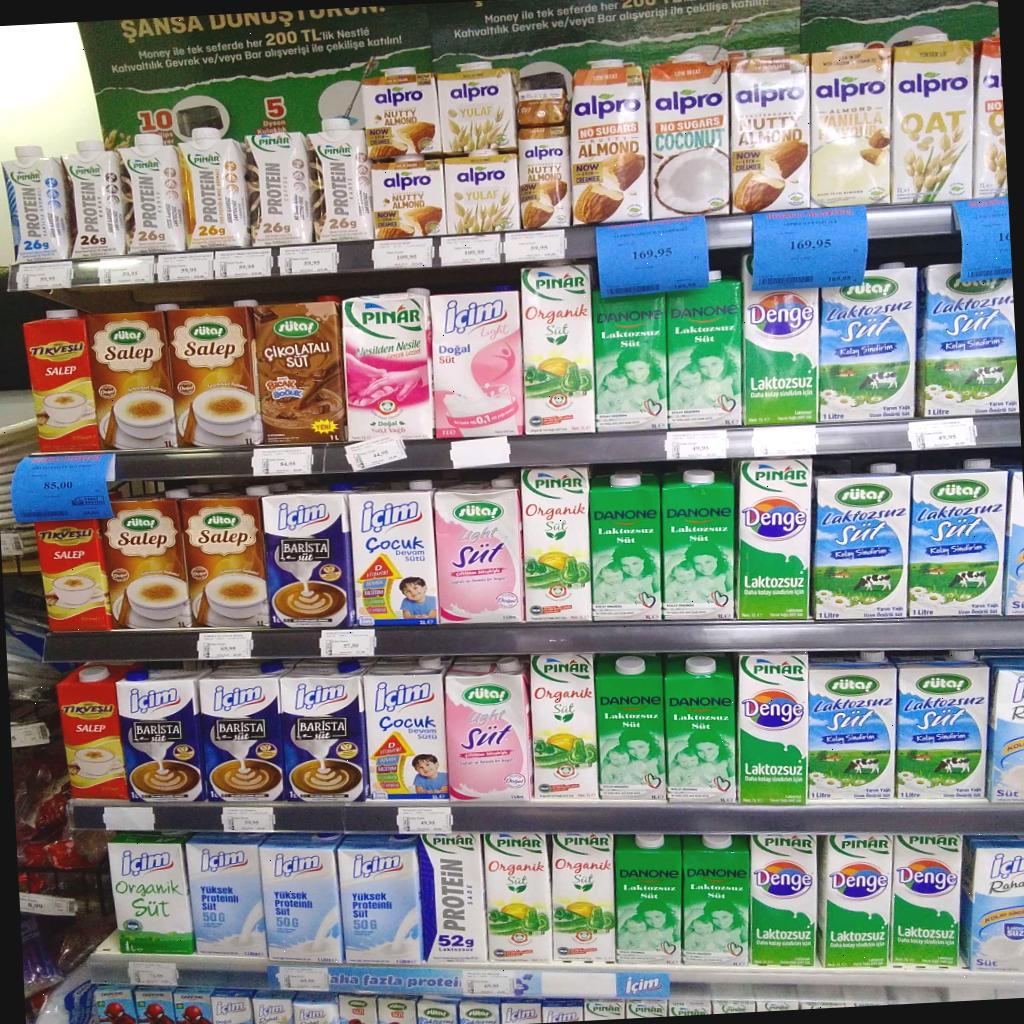price_tag: (752, 206, 868, 290), (596, 218, 709, 297), (11, 453, 114, 523), (955, 198, 1011, 282), (345, 434, 406, 471), (908, 418, 977, 450), (503, 229, 566, 263), (752, 425, 817, 456), (372, 238, 434, 269), (450, 436, 510, 468), (278, 244, 339, 275), (440, 234, 501, 265), (665, 430, 728, 460), (252, 446, 313, 476), (215, 248, 273, 278), (158, 251, 214, 282), (319, 628, 375, 658), (98, 256, 155, 285), (198, 631, 253, 660), (17, 261, 72, 290), (461, 970, 515, 998), (397, 806, 452, 833), (221, 806, 274, 833), (103, 806, 155, 831), (278, 967, 330, 992), (128, 961, 178, 987)
product: (819, 262, 917, 421), (908, 460, 1007, 617), (812, 465, 911, 620), (918, 266, 1019, 417), (165, 303, 262, 446), (253, 298, 346, 445), (430, 292, 522, 438), (650, 51, 730, 218), (349, 485, 442, 627), (810, 44, 891, 207), (730, 49, 810, 213), (741, 255, 818, 425), (343, 295, 433, 440), (896, 660, 989, 799), (571, 61, 650, 224), (263, 490, 356, 628), (736, 458, 814, 620), (200, 661, 289, 802), (88, 311, 178, 449), (808, 662, 897, 801), (446, 659, 532, 802), (434, 487, 524, 623), (522, 266, 594, 434), (666, 271, 743, 428), (280, 661, 365, 801), (180, 494, 268, 629), (117, 669, 206, 802), (104, 497, 192, 628), (364, 666, 448, 801), (661, 469, 735, 618), (260, 834, 343, 964), (590, 472, 662, 621), (664, 656, 736, 803), (24, 311, 99, 452), (737, 653, 807, 804), (522, 468, 592, 618), (592, 292, 667, 430), (338, 837, 420, 963), (596, 654, 666, 800), (818, 834, 893, 968), (186, 834, 267, 958), (109, 835, 194, 953), (530, 654, 598, 799), (57, 666, 129, 800), (891, 834, 961, 968), (749, 834, 818, 967), (417, 832, 487, 963), (484, 832, 553, 962), (614, 834, 683, 964), (682, 835, 750, 966), (960, 836, 1024, 972), (551, 832, 617, 963), (180, 128, 251, 249), (36, 521, 111, 630), (3, 146, 73, 261), (309, 117, 373, 242), (120, 133, 186, 253), (246, 133, 313, 246), (63, 140, 126, 258), (438, 62, 516, 155), (362, 70, 442, 160), (445, 150, 521, 234), (371, 155, 446, 239), (518, 128, 571, 228), (987, 659, 1024, 802), (94, 985, 137, 1024), (211, 988, 253, 1024), (135, 987, 174, 1024), (294, 993, 340, 1024), (253, 990, 294, 1024), (175, 988, 213, 1024), (338, 994, 378, 1024), (376, 996, 416, 1024), (417, 997, 457, 1024), (458, 999, 500, 1024), (500, 1000, 541, 1024), (542, 999, 583, 1023), (585, 999, 623, 1021), (668, 997, 711, 1016), (624, 1000, 667, 1018), (712, 998, 755, 1014), (756, 999, 799, 1011), (1016, 900, 1018, 902), (710, 543, 712, 544)
